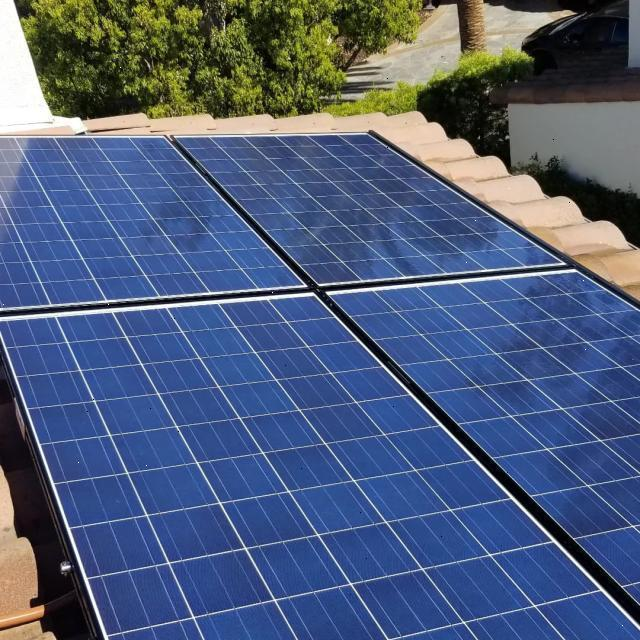Normal Solar Panel: (1, 292, 640, 638), (325, 269, 639, 606), (0, 113, 300, 307), (176, 134, 565, 282)
